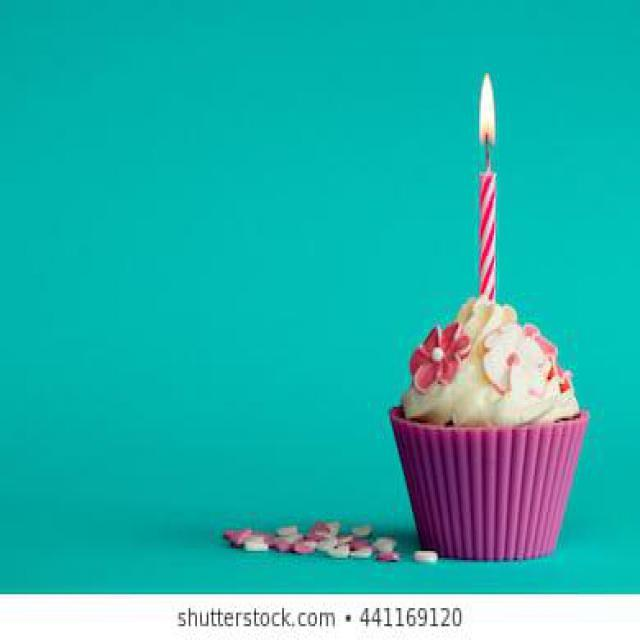Fire: (480, 72, 495, 150)
